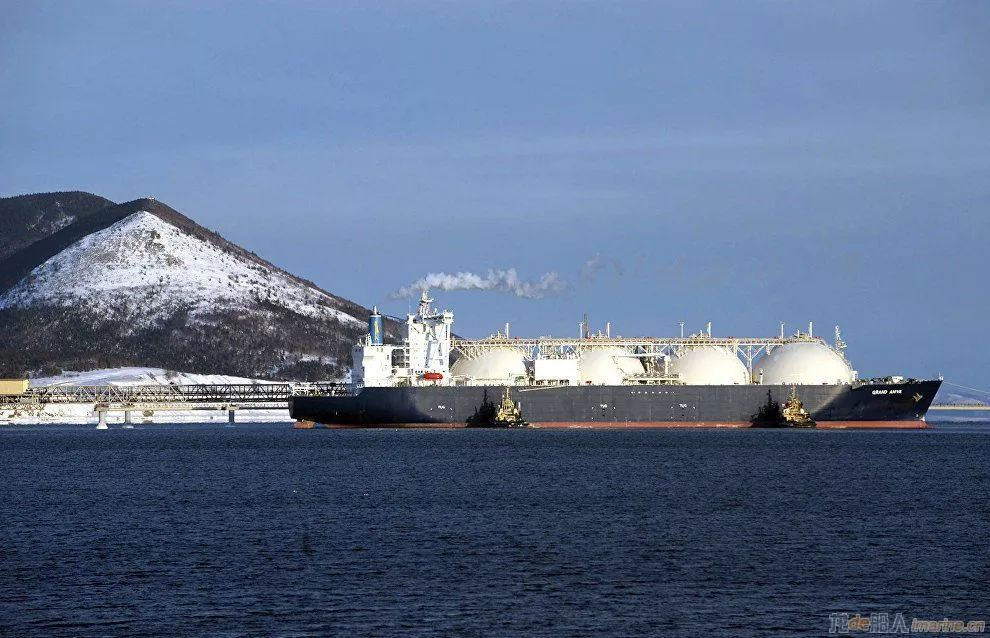Cargoship: (272, 293, 947, 427)
otherboat: (756, 382, 828, 438), (478, 389, 531, 435)
